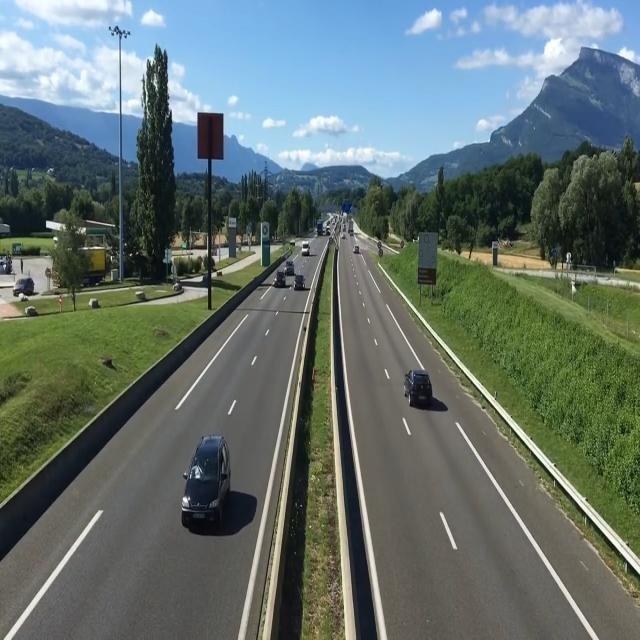Car: (178, 432, 236, 528), (396, 366, 439, 405), (292, 273, 307, 293), (283, 259, 295, 277), (274, 270, 285, 289), (353, 244, 363, 255)
Van: (300, 239, 312, 257)
